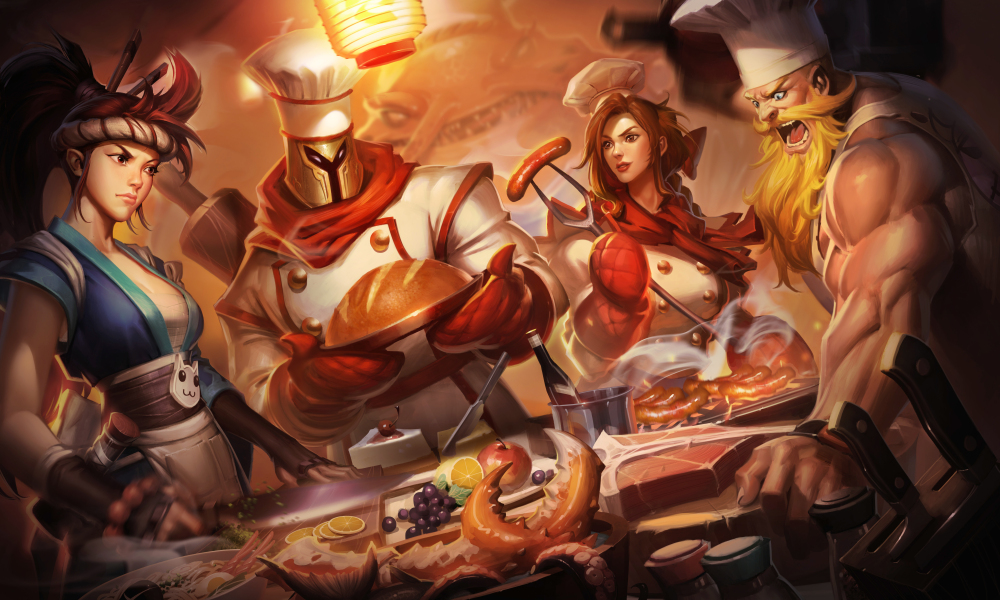face: (47, 59, 209, 228), (734, 6, 858, 184), (263, 33, 376, 226), (573, 81, 696, 192)
